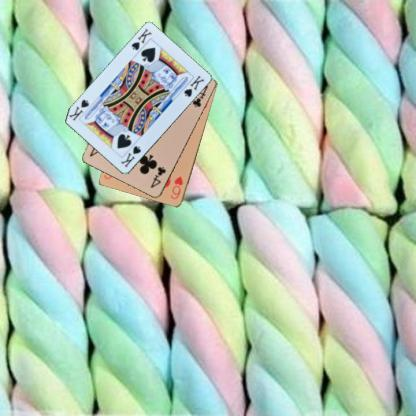4c: (148, 164, 167, 190)
6h: (168, 174, 184, 200)
Ks: (118, 143, 142, 169), (129, 26, 153, 52)
